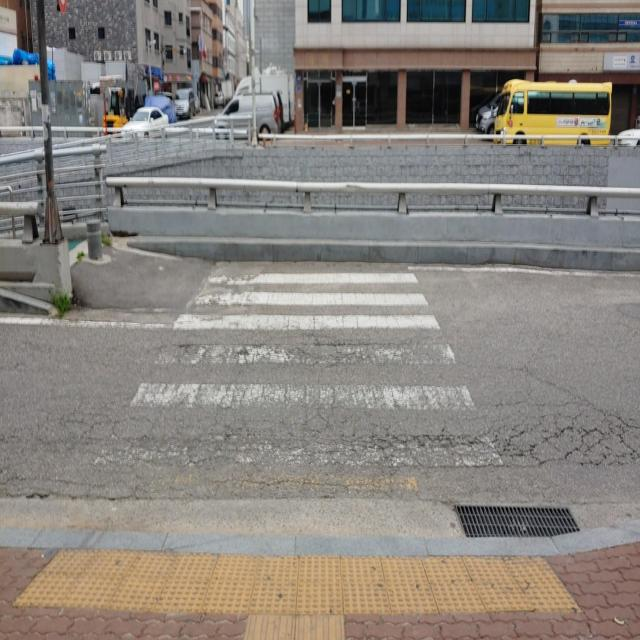횡단보도: (91, 266, 506, 473)
